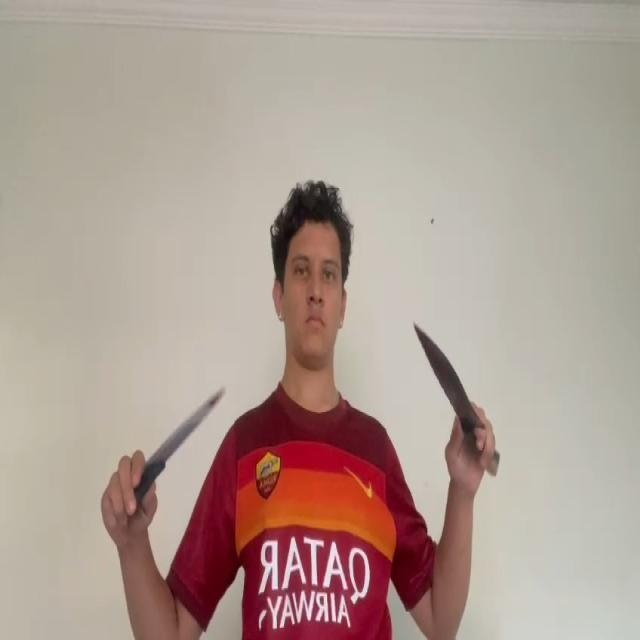knife: (414, 318, 481, 434), (151, 388, 227, 462)
